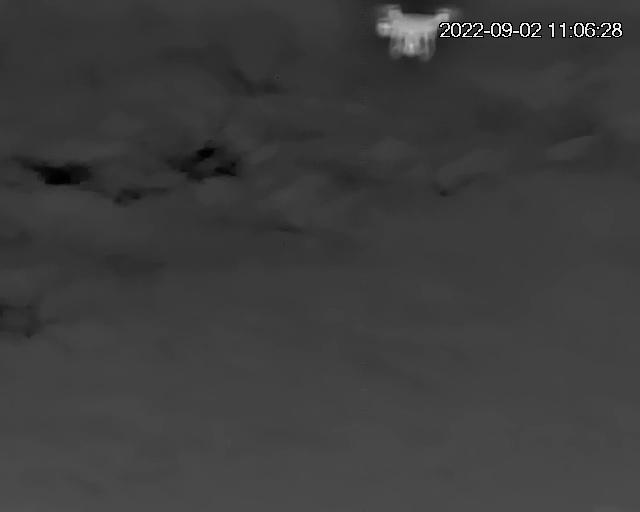DJI-Phantom: (375, 8, 455, 57)
